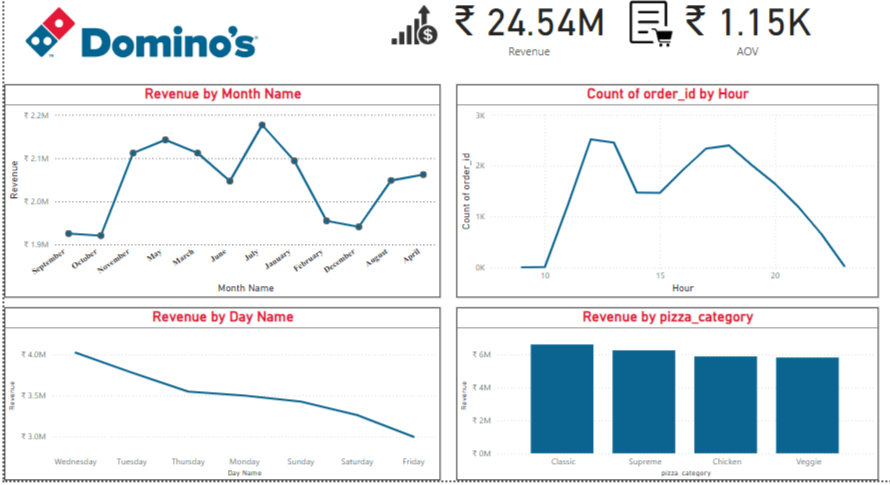

The dashboard page shown, as its layout file describes it:
{"tool":"powerbi","page":{"name":"Page 1","canvas":[1280,720],"ordinal":0},"visuals":[{"type":"card","fields":{"Values":["Data1.Revenue"]},"box":[591.3,0,327.6,127.7],"z":0},{"type":"lineChart","fields":{"Category":["Data1.Month Name"],"Y":["Data1.Revenue"]},"box":[0,149.8,627.8,306.7],"z":1000},{"type":"lineChart","fields":{"Category":["Data1.Hour"],"Y":["Count(Data1.order_id)"]},"box":[650.9,149.8,607.7,306.7],"z":2000},{"type":"lineChart","fields":{"Category":["Data1.Day Name"],"Y":["Data1.Revenue"]},"box":[0,470.9,627.8,249.1],"z":3000},{"type":"columnChart","fields":{"Y":["Data1.Revenue"],"Category":["Data1.pizza_category"]},"box":[650.9,470.9,607.7,249.1],"z":4000},{"type":"card","fields":{"Values":["Data1.AOV"]},"box":[932.3,0,277.2,127.7],"z":5000},{"type":"image","box":[0,0,393.1,149.8],"z":5001},{"type":"image","box":[522.7,0,136.8,128.2],"z":5002},{"type":"image","box":[894.2,24.5,73.4,76.3],"z":5003}]}

Visuals, with their boxes in screenshot pixels (x1, y1, x2, y2):
card - Data1.Revenue: box=[411, 0, 637, 69]
lineChart - Data1.Month Name x Data1.Revenue: box=[5, 85, 436, 295]
lineChart - Data1.Hour x Count(Data1.order_id): box=[452, 85, 870, 295]
lineChart - Data1.Day Name x Data1.Revenue: box=[5, 305, 436, 477]
columnChart - Data1.Revenue x Data1.pizza_category: box=[452, 305, 870, 477]
card - Data1.AOV: box=[646, 0, 837, 69]
image: box=[5, 0, 275, 85]
image: box=[364, 0, 458, 70]
image: box=[620, 0, 670, 51]
